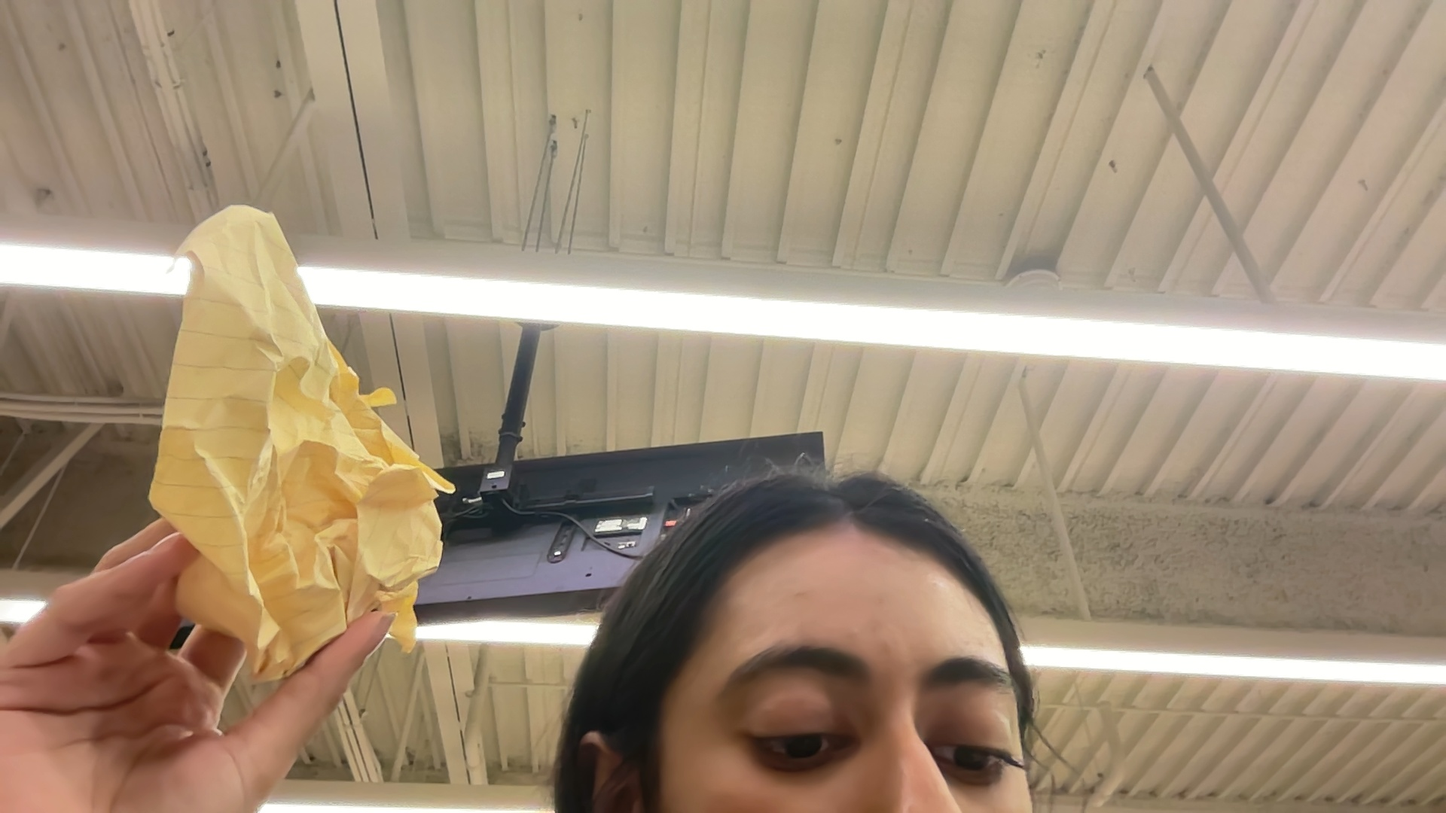Plastic: (730, 647, 870, 772)
